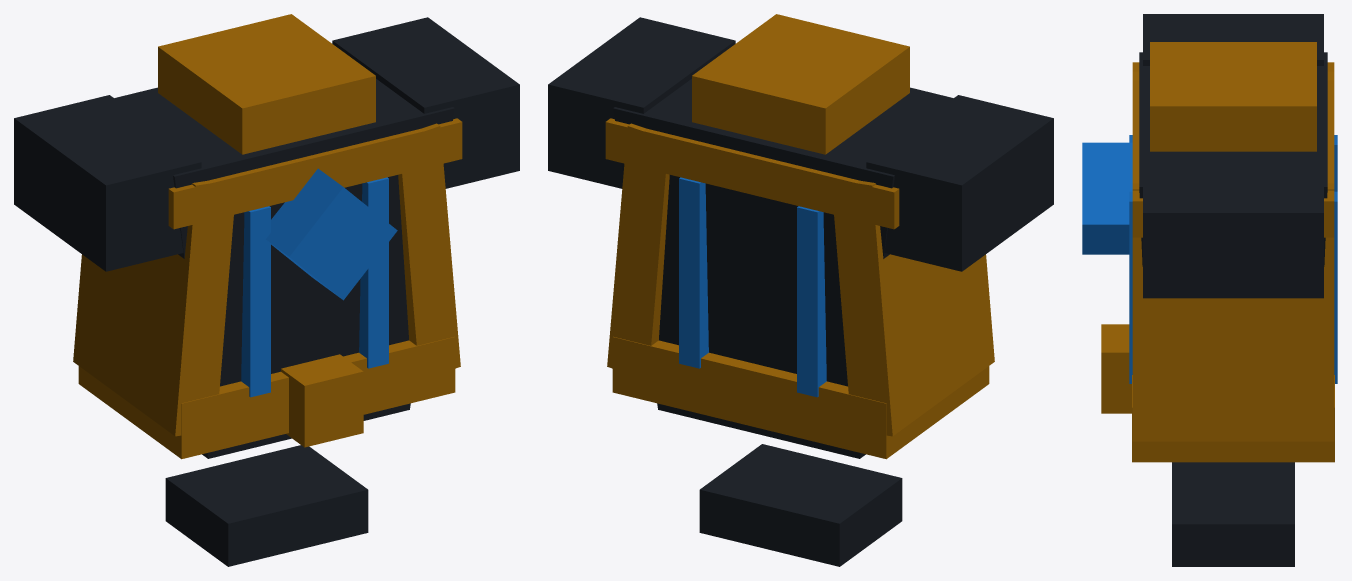
Rendered from CorazaTemplada_low.fbx.
3 views of the same model, side by side, from view 1: azimuth 30°, elevation 25°; view 2: azimuth 150°, elevation 25°; view 3: azimuth 270°, elevation 25° (orthographic).
Visible parts, largest first — view 1: CorazaTemplada_low; view 2: CorazaTemplada_low; view 3: CorazaTemplada_low.
Part boxes in pixels (<box>): CorazaTemplada_low: <box>14,14,519,566</box>; CorazaTemplada_low: <box>548,14,1053,566</box>; CorazaTemplada_low: <box>1082,14,1337,566</box>.
Size of the model in its own units: 70.2 by 75.5 by 38.
